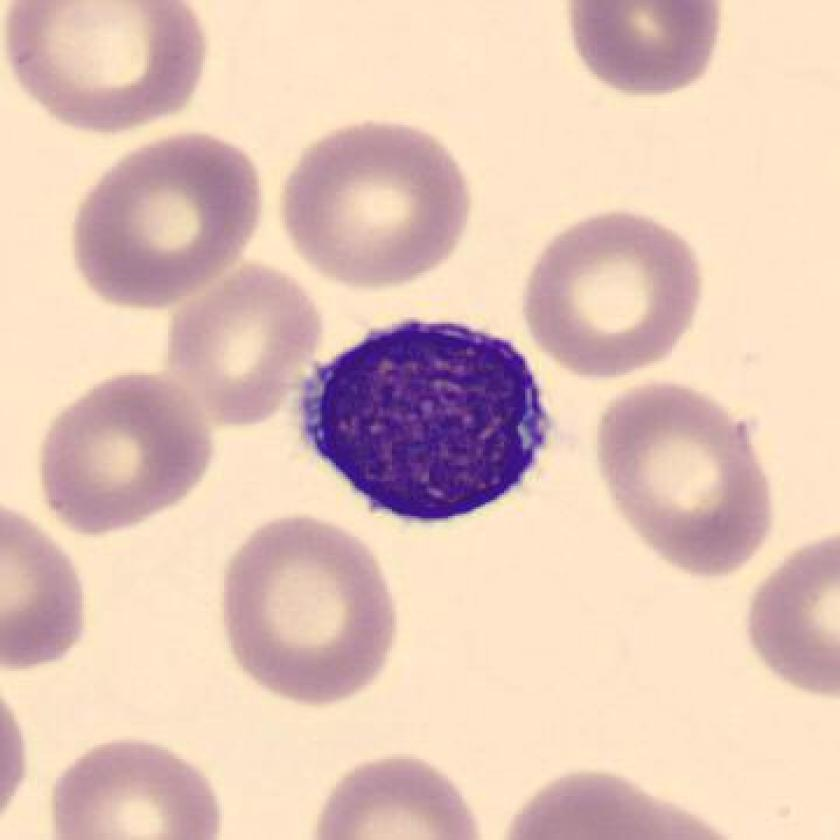lymphocyte: (281, 293, 566, 554)
